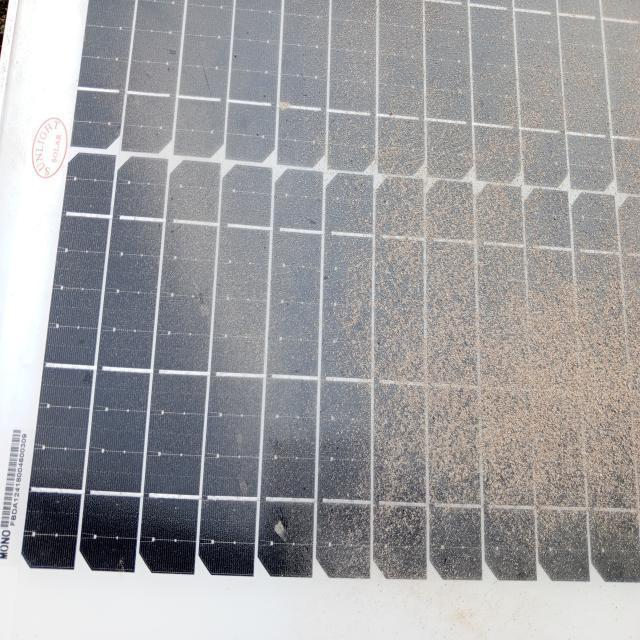Surface Contaminant: (25, 7, 639, 581)
